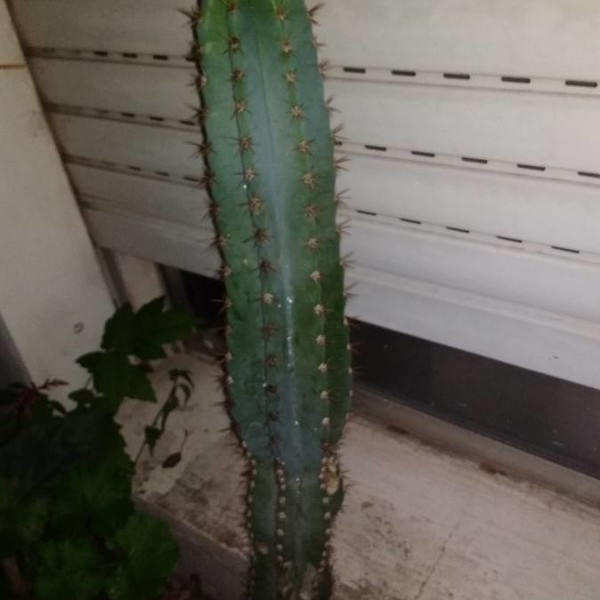obstacle: (166, 1, 361, 569)
